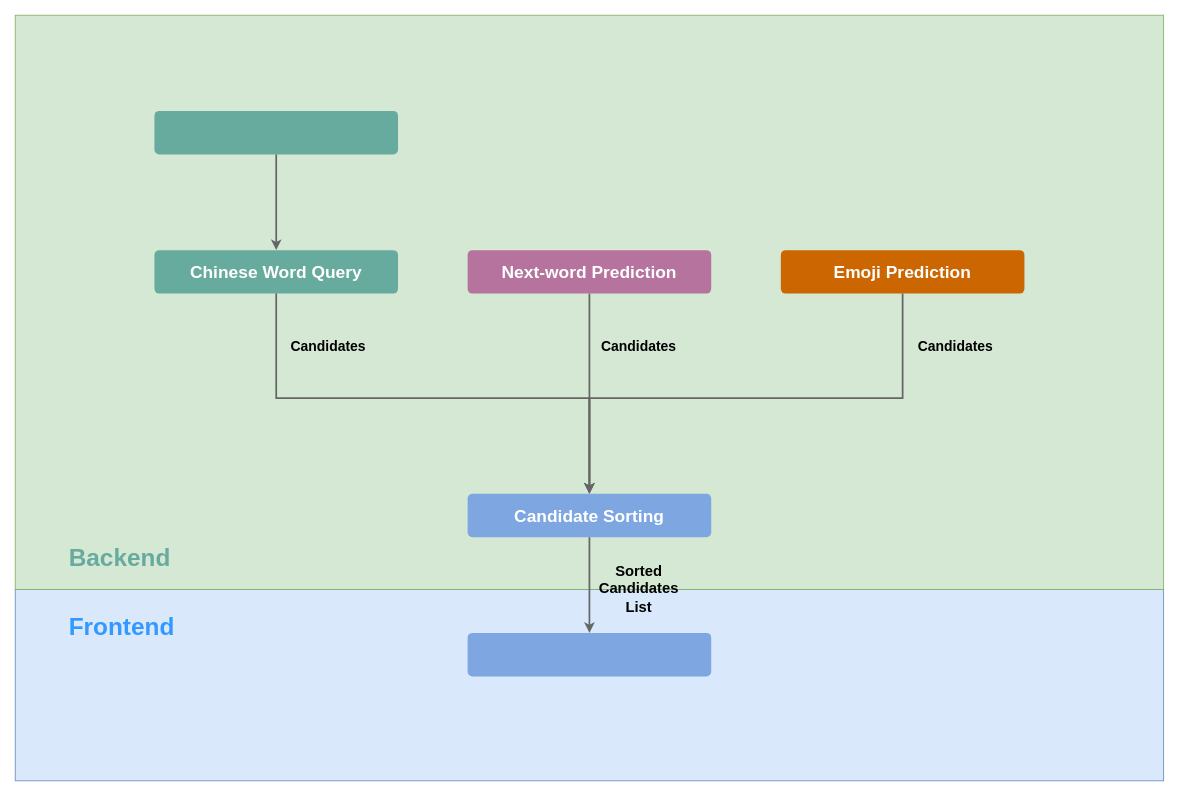
Image size: 1179x796. Some labels were removed from this diagram. Each missing label, with the centre of its shape:
Candidates Rendering: [589,654]
Pinyin Splitting: [276,132]
